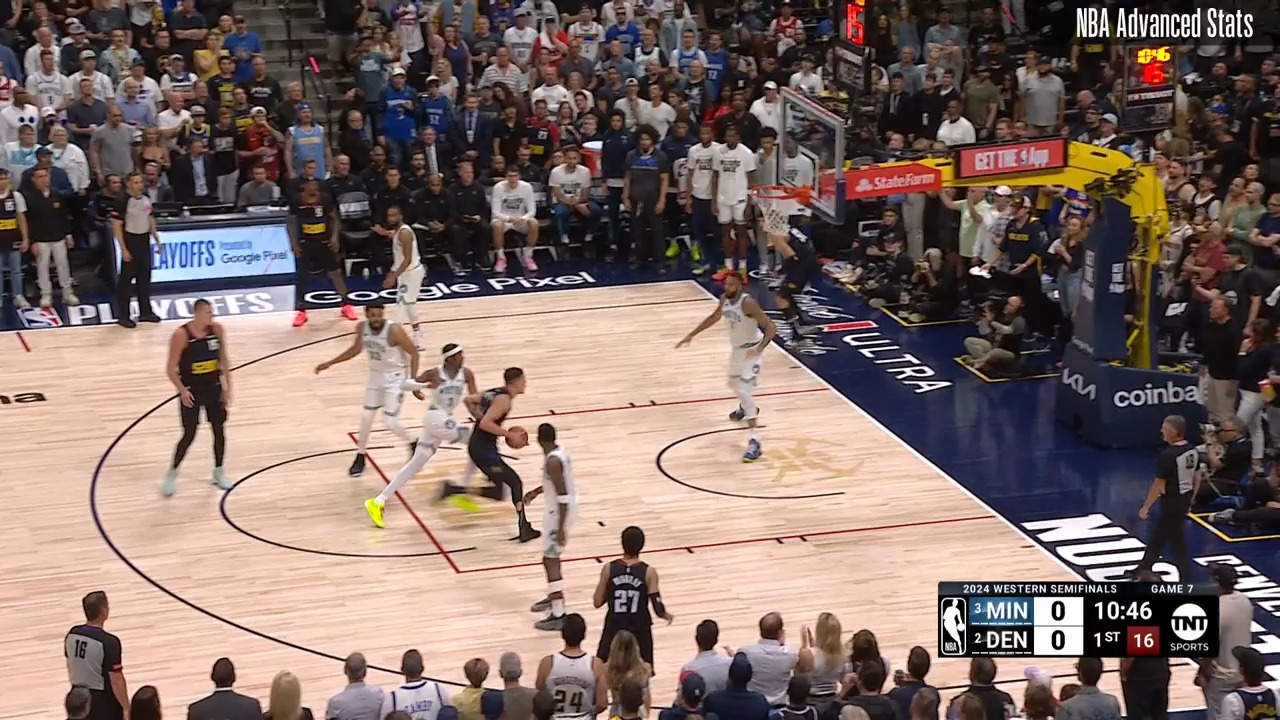basketball: (505, 425, 529, 450)
